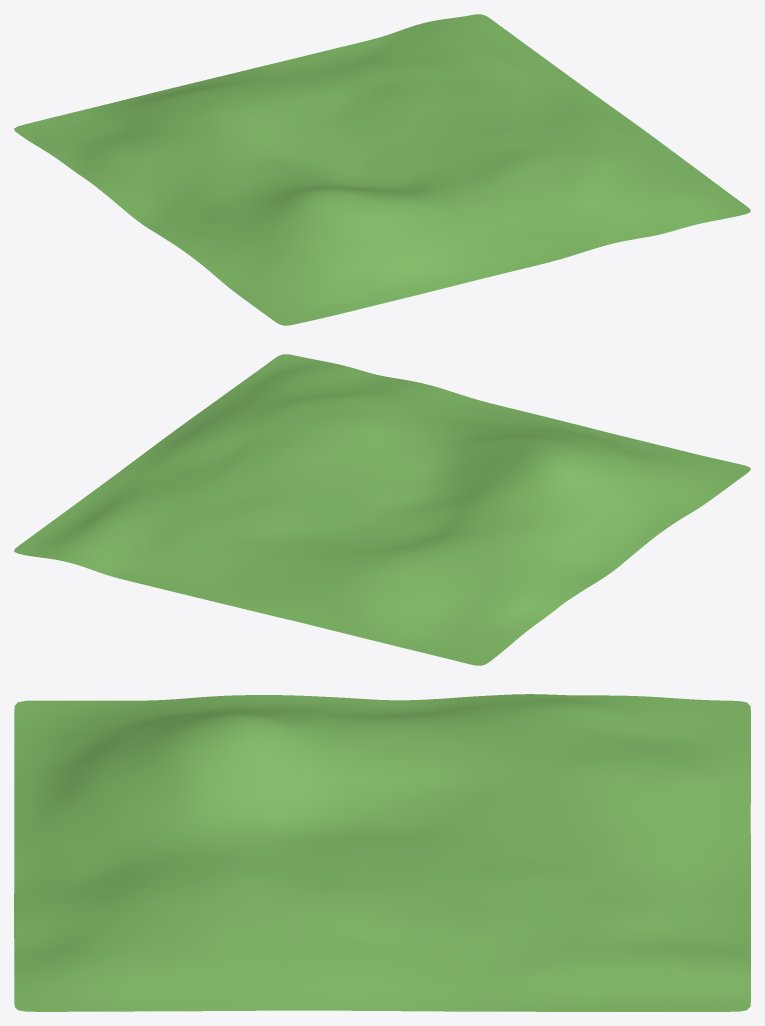
Rendered from Test Level.fbx.
The picture shows the model from 3 angles, top to bottom: view 1: azimuth 30°, elevation 25°; view 2: azimuth 150°, elevation 25°; view 3: azimuth 270°, elevation 25°; orthographic projection. The views are drawn at different scales.
Visible parts, largest first — view 1: Plane; view 2: Plane; view 3: Plane.
Boxes of the visible parts, bbox=[...] form: Plane: bbox=[14, 14, 750, 325]; Plane: bbox=[14, 354, 750, 665]; Plane: bbox=[14, 694, 750, 1011].
Size of the model in its own units: 2002 by 173 by 2001.
